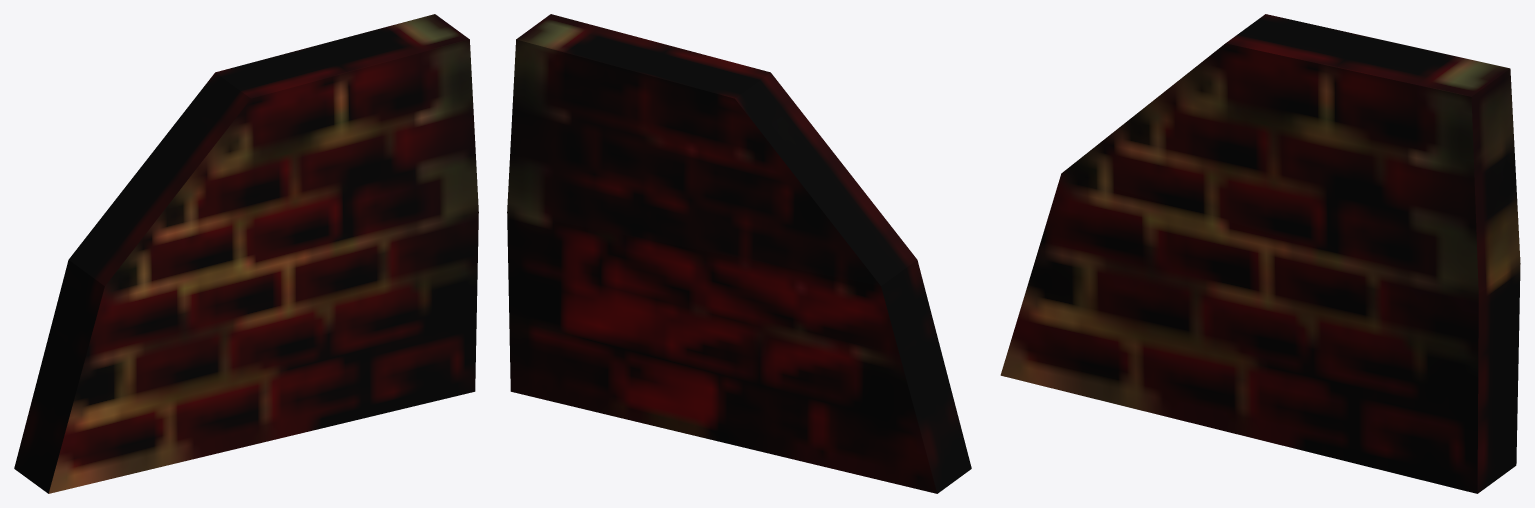
File: Bricks-1-B.fbx
The picture shows the model from 3 angles, left to right: view 1: azimuth 30°, elevation 25°; view 2: azimuth 150°, elevation 25°; view 3: azimuth 330°, elevation 25°; orthographic projection. The views are drawn at different scales.
Parts seen in each view (by area): view 1: brick-1-B; view 2: brick-1-B; view 3: brick-1-B.
Boxes of the visible parts, box(x1,y1,x2,y2) form: brick-1-B: box(14, 14, 478, 493); brick-1-B: box(507, 14, 971, 493); brick-1-B: box(1000, 14, 1520, 493).
Bounding box in the file's own units: 271 × 214 × 40.88.
